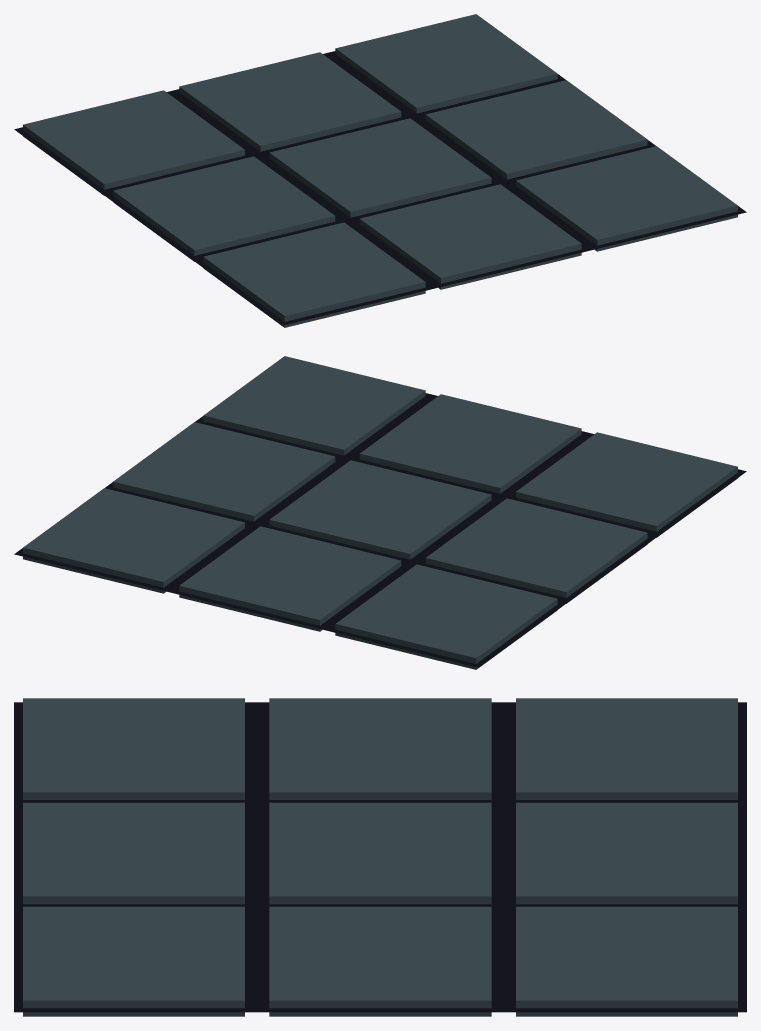
3 renders of one model, top to bottom at view 1: azimuth 30°, elevation 25°; view 2: azimuth 150°, elevation 25°; view 3: azimuth 270°, elevation 25°, orthographic. The views are drawn at different scales.
Parts seen in each view (by area): view 1: Plane.006; view 2: Plane.006; view 3: Plane.006.
Boxes of the visible parts, box(x1,y1,x2,y2) form: Plane.006: box(14, 14, 746, 327); Plane.006: box(14, 356, 746, 669); Plane.006: box(14, 698, 746, 1016).
Bounding box in the file's own units: 800 × 19.35 × 800.
